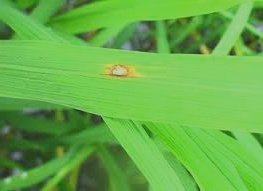Brown_Spot: (98, 53, 139, 81)
